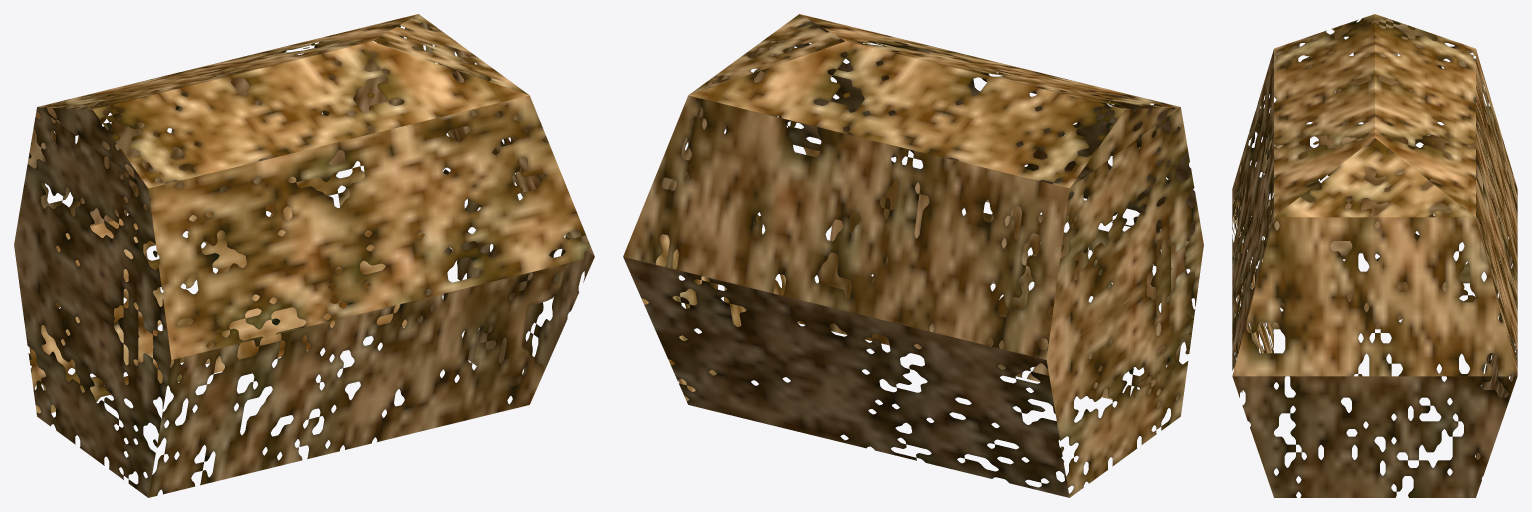
The model's file is bush_long_half_open_right_autumn.fbx.
3 views of the same model, side by side, from view 1: azimuth 30°, elevation 25°; view 2: azimuth 150°, elevation 25°; view 3: azimuth 270°, elevation 25° (orthographic). The views are drawn at different scales.
Parts seen in each view (by area): view 1: bush_long_half_open_right_autumn; view 2: bush_long_half_open_right_autumn; view 3: bush_long_half_open_right_autumn.
Part boxes in pixels (box(x1,y1,x2,y2)): bush_long_half_open_right_autumn: box(14, 14, 594, 497); bush_long_half_open_right_autumn: box(623, 14, 1203, 497); bush_long_half_open_right_autumn: box(1232, 14, 1517, 497).
Size of the model in its own units: 112 by 87.65 by 71.91.
Materials: 1 (1 with a texture image).
